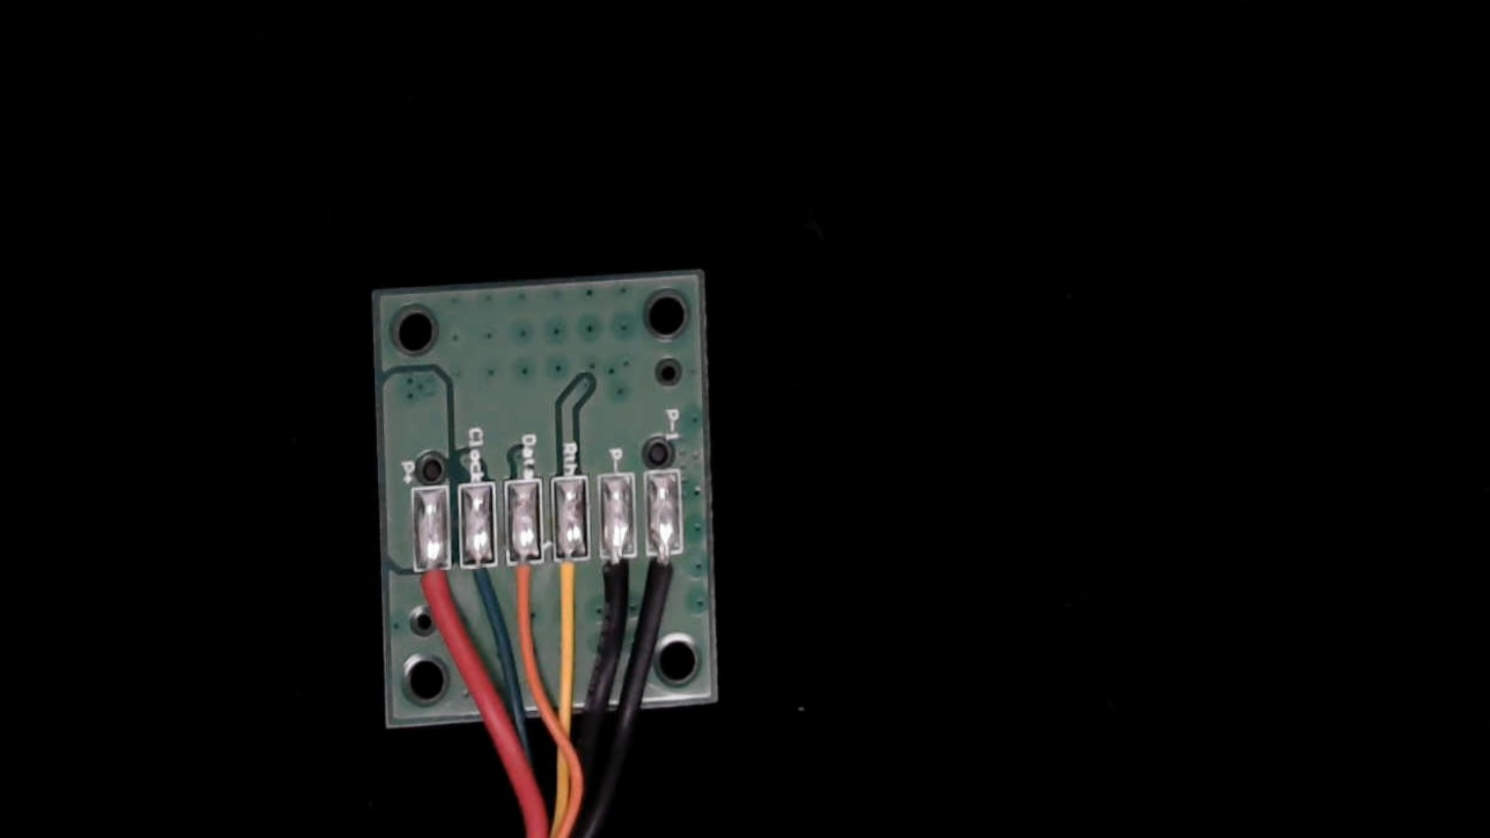Black: (602, 533, 637, 627)
Black1: (647, 534, 681, 612)
Green: (462, 540, 502, 634)
Orange: (509, 537, 547, 634)
Red: (414, 546, 456, 639)
Yellow: (556, 535, 589, 628)
